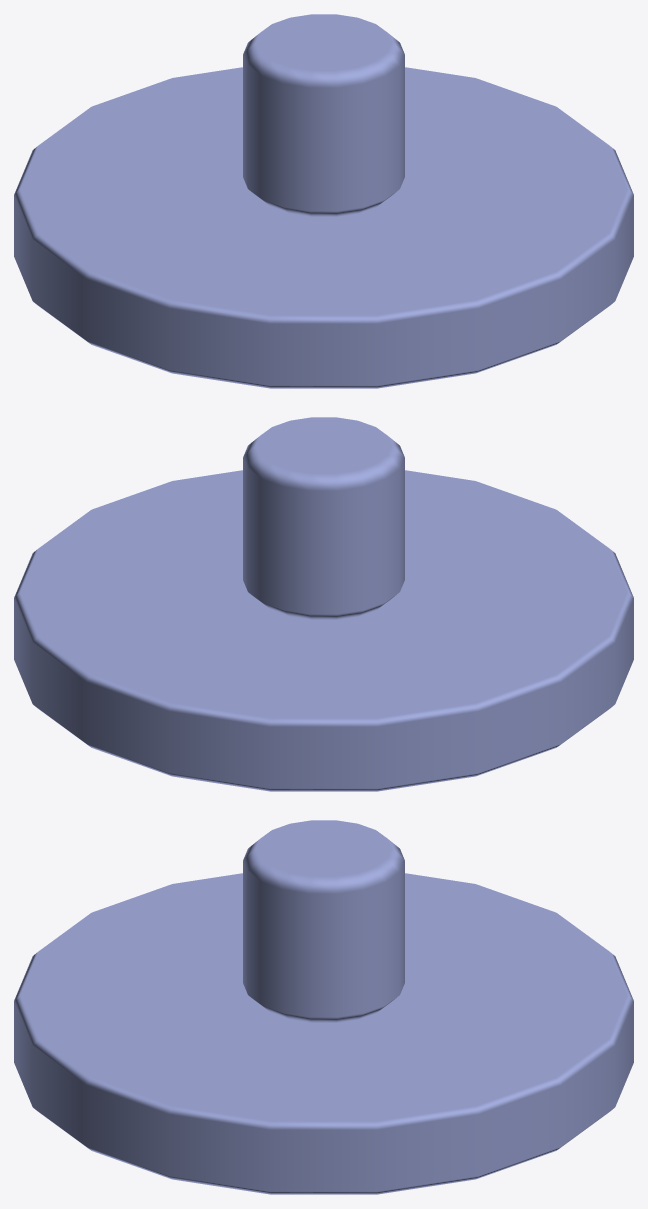
Rendered from fx-lightning.6eba423e.glb.
3 views of the same model, one above another, from view 1: azimuth 30°, elevation 25°; view 2: azimuth 150°, elevation 25°; view 3: azimuth 270°, elevation 25° (orthographic).
Parts seen in each view (by area): view 1: body; view 2: body; view 3: body.
Part boxes in pixels (x1,y1,x2,y2): body: (14, 14, 633, 388); body: (14, 417, 633, 791); body: (14, 820, 633, 1194).
Bounding box in the file's own units: 0.453 × 0.18 × 0.46.
